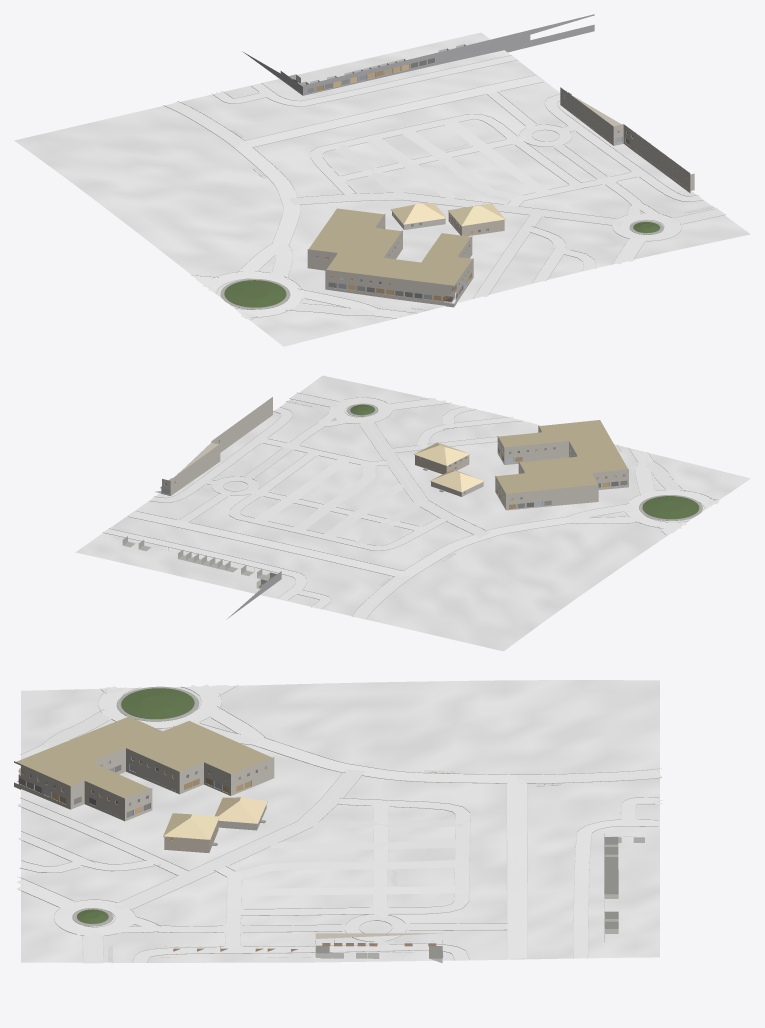
3 renders of one model, top to bottom at view 1: azimuth 30°, elevation 25°; view 2: azimuth 150°, elevation 25°; view 3: azimuth 270°, elevation 25°, orthographic. The views are drawn at different scales.
Visible parts, largest first — view 1: ground, concrete, asphalt, wall_com, roof_flat, curb, detail, roof, glass_lit, mark_w, mark_y, glass (+2 smaller); view 2: ground, concrete, asphalt, wall_com, roof_flat, curb, detail, roof, room, mark_w, mark_y, wall; view 3: ground, concrete, asphalt, roof_flat, curb, wall_com, detail, room, roof, mark_w, mark_y, wall (+1 smaller).
Boxes of the visible parts, <box> form: ground: <box>14,32,750,346</box>; concrete: <box>215,55,702,298</box>; asphalt: <box>166,75,725,319</box>; wall_com: <box>242,14,694,307</box>; roof_flat: <box>309,94,621,285</box>; curb: <box>163,55,725,319</box>; detail: <box>220,58,663,309</box>; roof: <box>391,203,505,226</box>; glass_lit: <box>316,64,632,301</box>; mark_w: <box>164,76,723,318</box>; mark_y: <box>172,79,721,315</box>; glass: <box>307,58,629,299</box>; ground: <box>75,375,750,651</box>; concrete: <box>103,406,520,608</box>; asphalt: <box>129,393,719,618</box>; wall_com: <box>161,397,628,619</box>; roof_flat: <box>177,420,627,493</box>; curb: <box>103,392,719,619</box>; detail: <box>113,403,702,574</box>; roof: <box>414,442,484,492</box>; room: <box>122,451,616,588</box>; mark_w: <box>130,393,706,617</box>; mark_y: <box>132,395,705,617</box>; wall: <box>415,455,469,474</box>; ground: <box>21,680,659,962</box>; concrete: <box>17,797,663,963</box>; asphalt: <box>16,684,661,963</box>; roof_flat: <box>16,716,442,938</box>; curb: <box>17,685,661,962</box>; wall_com: <box>14,748,604,893</box>; detail: <box>18,686,635,957</box>; room: <box>17,760,644,963</box>; roof: <box>163,797,267,839</box>; mark_w: <box>20,686,661,962</box>; mark_y: <box>19,686,657,962</box>; wall: <box>164,820,218,852</box>.
Bounding box in the file's own units: 300 × 15.14 × 288.
